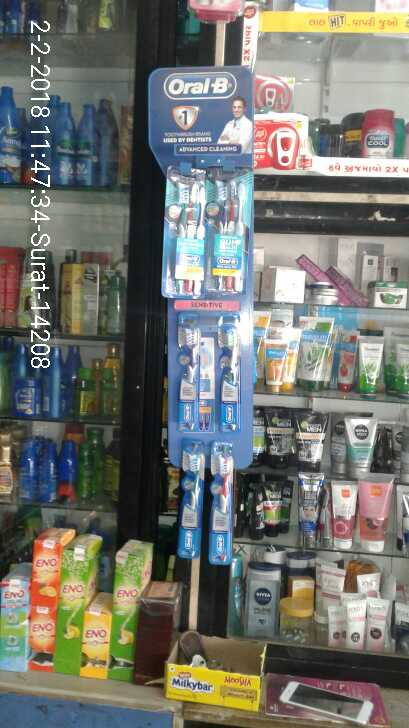oralb: (204, 165, 260, 302), (160, 163, 201, 297), (175, 446, 206, 557), (218, 314, 245, 440), (172, 311, 199, 433), (209, 457, 239, 564)
